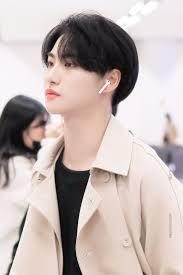earphone: (98, 78, 112, 95)
